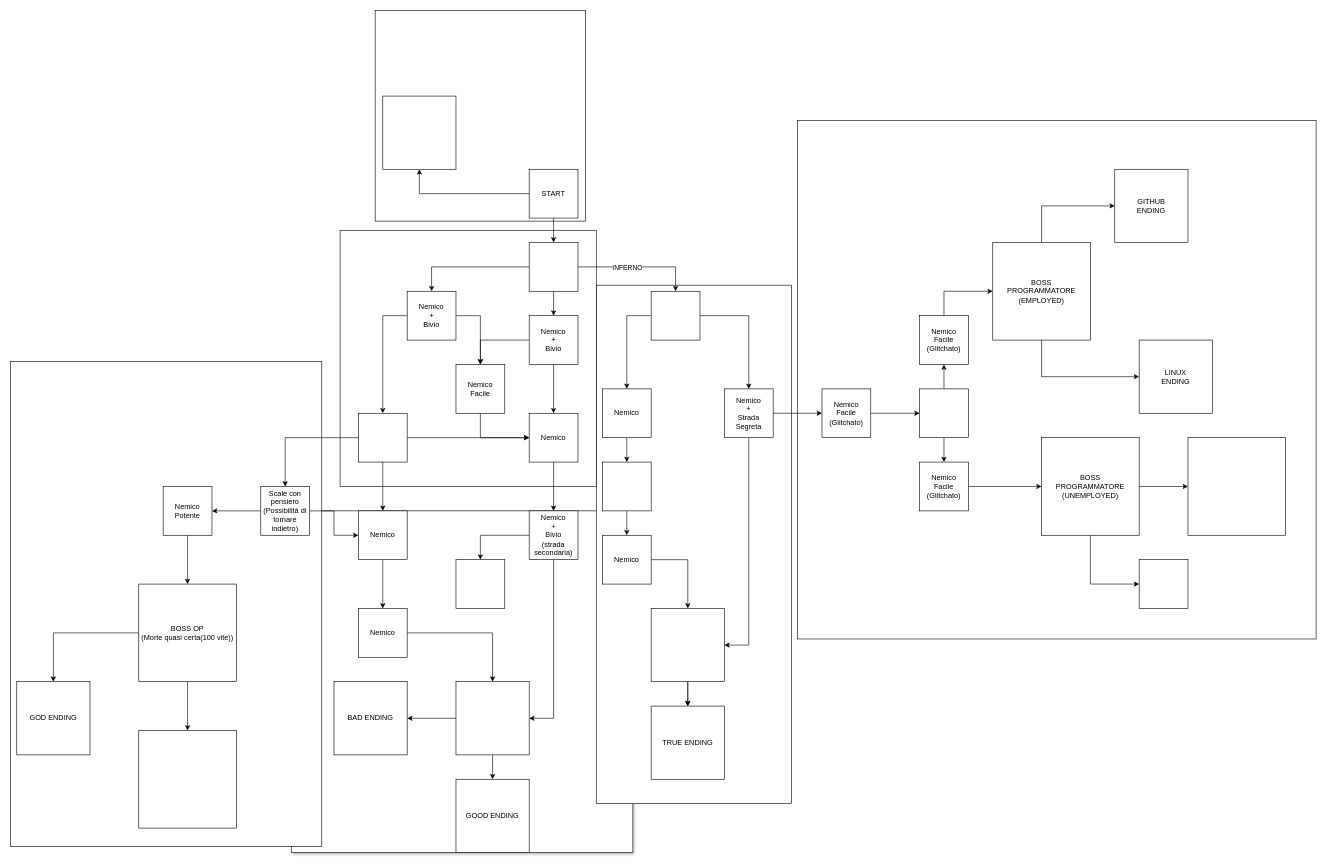
The diagram is 1327 pixels wide and 867 high, and some of its shapes have lost their labels. The centre of each missing label's shape, as x and y in pixels:
"Bivio" goes at point (675, 315).
"Bivio Iniziale" goes at point (553, 266).
"BOSS INFERNO" goes at point (687, 645).
"BOSS MINOTAURO" goes at point (492, 718).
"COWARD ENDING" goes at point (419, 132).
"DIG DUG ENDING" goes at point (1163, 583).
"HERO ENDING" goes at point (187, 779).
"Nemico + Bivio (Scelta Palese)" goes at point (382, 437).
"Nemico + Vita Extra" goes at point (626, 486).
"Nemico Facile (Glitchato) + Bivio" goes at point (943, 413).
"Vicolo Cieco (statua bad ending)" goes at point (480, 583).
"WHATSAPP HALF LIFE ENDING" goes at point (1236, 486).
